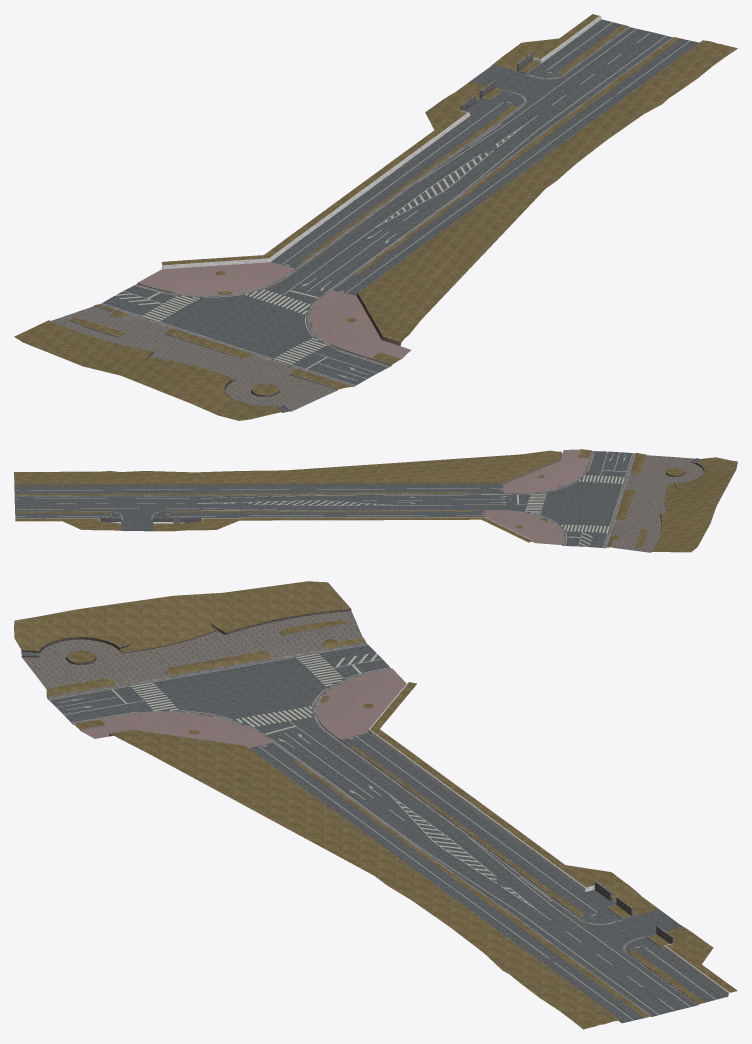
Rendered from zimCreateArchive_Area09_Ground.fbx.
The picture shows the model from 3 angles, top to bottom: view 1: azimuth 30°, elevation 25°; view 2: azimuth 150°, elevation 25°; view 3: azimuth 270°, elevation 25°; orthographic projection. The views are drawn at different scales.
Parts seen in each view (by area): view 1: Ground-Grass1, Ground-Road, Ground-Path-DarkGrey, Ground-Path-GreyTile2, Ground-Paving-PinkGrey, Ground-RoadMark, Ground-Kerb, Ground-Wall-Brick12, Ground-Wall-Limestone; view 2: Ground-Grass1, Ground-Road, Ground-Path-DarkGrey, Ground-Path-GreyTile2, Ground-Paving-PinkGrey, Ground-RoadMark, Ground-Kerb, Ground-Wall-Limestone, Ground-Wall-Brick12, Ground-Wall-Brick4; view 3: Ground-Grass1, Ground-Road, Ground-Path-DarkGrey, Ground-Path-GreyTile2, Ground-Paving-PinkGrey, Ground-RoadMark, Ground-Kerb, Ground-Wall-Brick12, Ground-Wall-BrickChicago.
Part boxes in pixels (<box>): Ground-Grass1: <box>14,14,737,420</box>; Ground-Road: <box>101,27,671,385</box>; Ground-Path-DarkGrey: <box>271,19,698,412</box>; Ground-Path-GreyTile2: <box>51,306,337,411</box>; Ground-Paving-PinkGrey: <box>138,262,410,358</box>; Ground-RoadMark: <box>101,22,690,385</box>; Ground-Kerb: <box>70,26,674,389</box>; Ground-Wall-Brick12: <box>161,16,601,269</box>; Ground-Wall-Limestone: <box>356,40,702,345</box>; Ground-Grass1: <box>14,449,737,552</box>; Ground-Road: <box>14,451,633,548</box>; Ground-Path-DarkGrey: <box>14,458,701,523</box>; Ground-Path-GreyTile2: <box>610,455,703,552</box>; Ground-Paving-PinkGrey: <box>484,449,588,544</box>; Ground-RoadMark: <box>14,451,632,547</box>; Ground-Kerb: <box>14,449,648,548</box>; Ground-Wall-Limestone: <box>14,451,562,486</box>; Ground-Wall-Brick12: <box>15,517,534,542</box>; Ground-Wall-Brick4: <box>100,517,201,522</box>; Ground-Grass1: <box>14,581,737,1029</box>; Ground-Road: <box>48,644,696,1016</box>; Ground-Path-DarkGrey: <box>21,651,727,1023</box>; Ground-Path-GreyTile2: <box>22,611,362,688</box>; Ground-Paving-PinkGrey: <box>80,669,406,747</box>; Ground-RoadMark: <box>49,644,716,1020</box>; Ground-Kerb: <box>46,619,698,1016</box>; Ground-Wall-Brick12: <box>367,682,729,996</box>; Ground-Wall-BrickChicago: <box>21,609,351,664</box>.
Bounding box in the file's own units: 171 × 118 × 2.59.
Materials: 10 (10 with a texture image).
